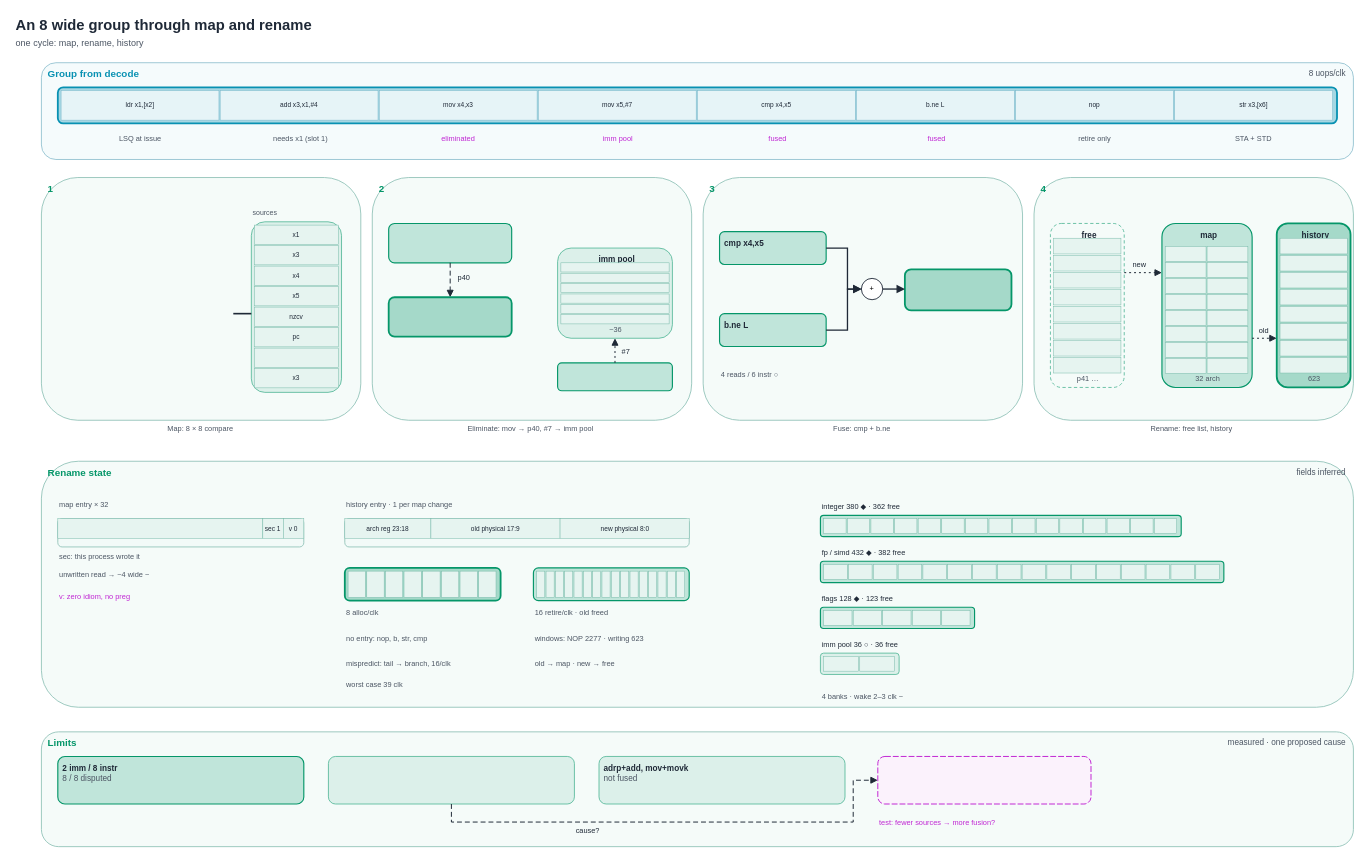
Some shapes in this 1368 by 861 pixel diagram are drawn without their labels. Here are the shapes that lost their labels. From the top down, the centre of each, then its label:
At point (450, 242): "slot 2 add x3 dst p40".
At point (958, 289): "one uop b.cc + nzcv".
At point (449, 316): "slot 3 mov x4,x3 x4 → p40, no uop".
At point (615, 376): "slot 4 mov x5,#7".
At point (160, 528): "physical register 11:2".
At point (451, 780): "4 reads / 6 instr cmp + b fusion".
At point (984, 780): "16 read ports 8 uops × 2 src".
